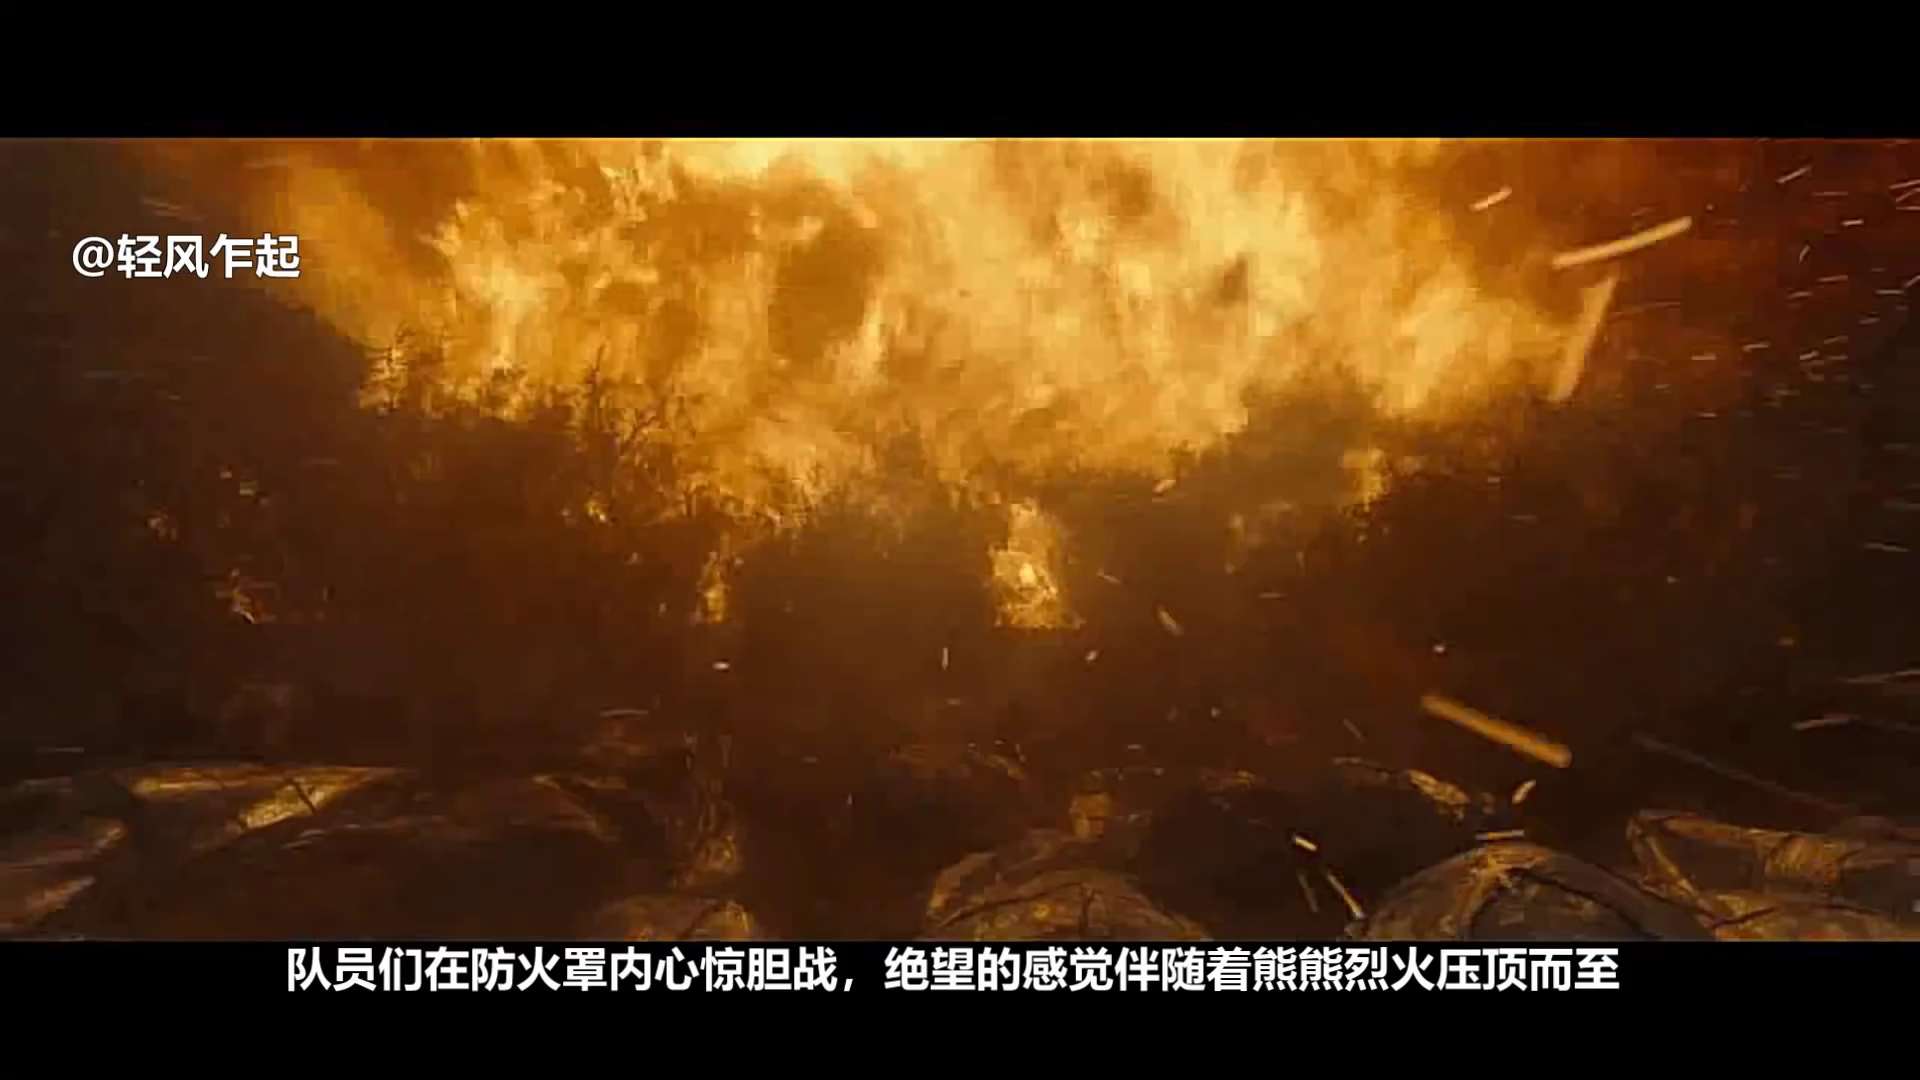fire: (425, 144, 1557, 425), (990, 516, 1062, 626)
